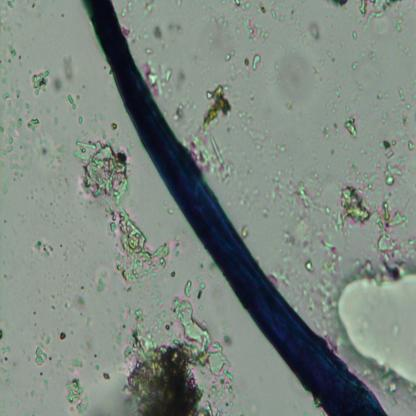Air bubble: (337, 268, 416, 387)
Background material: (70, 137, 169, 285), (122, 284, 227, 415), (336, 186, 408, 270), (298, 235, 344, 337), (287, 176, 339, 233), (0, 95, 40, 165), (277, 45, 316, 109), (240, 111, 286, 159), (264, 220, 294, 289), (189, 124, 231, 173), (380, 137, 416, 188), (205, 2, 240, 52), (330, 0, 404, 23), (203, 83, 233, 131), (140, 54, 172, 99), (258, 166, 285, 217), (345, 156, 384, 191), (230, 1, 290, 22), (223, 39, 252, 81), (172, 69, 194, 123), (64, 377, 90, 415), (321, 115, 343, 154), (244, 18, 270, 46), (28, 70, 50, 97), (0, 330, 11, 381), (164, 17, 192, 37), (4, 38, 22, 68), (32, 236, 55, 259), (33, 137, 52, 163), (103, 109, 121, 136), (172, 226, 186, 260), (342, 115, 360, 140), (193, 269, 206, 303), (46, 101, 60, 132), (358, 43, 378, 64), (31, 343, 49, 365), (397, 88, 413, 112), (149, 20, 165, 42), (62, 54, 75, 81), (71, 288, 85, 312), (306, 20, 321, 42), (249, 53, 264, 72), (47, 357, 64, 372), (345, 57, 361, 72), (93, 275, 105, 294), (70, 357, 85, 372), (66, 92, 78, 110), (182, 279, 193, 298), (51, 75, 62, 93), (48, 291, 58, 309), (350, 26, 358, 47), (57, 331, 68, 343), (241, 224, 250, 238), (101, 370, 111, 381), (8, 0, 18, 10), (170, 270, 177, 281), (78, 115, 84, 126)
Cotton: (82, 1, 388, 415)
